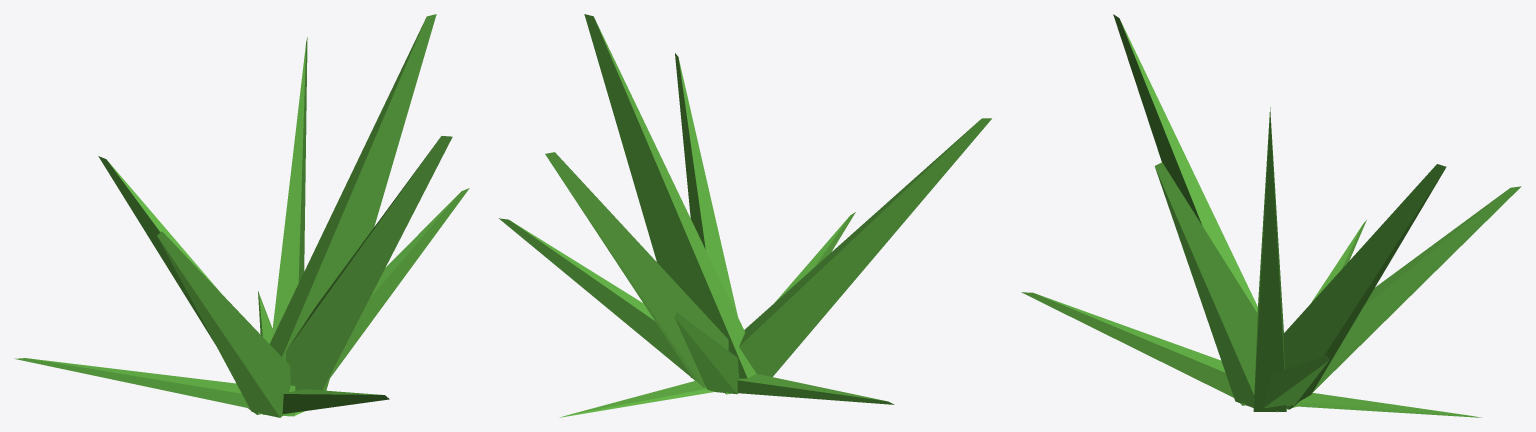
Rendered from grass_low.fbx.
3 views of the same model, side by side, from view 1: azimuth 30°, elevation 25°; view 2: azimuth 150°, elevation 25°; view 3: azimuth 270°, elevation 25° (orthographic). The views are drawn at different scales.
Parts seen in each view (by area): view 1: GrassLow; view 2: GrassLow; view 3: GrassLow.
Boxes of the visible parts, <box> form: GrassLow: <box>14,14,469,417</box>; GrassLow: <box>499,14,991,417</box>; GrassLow: <box>1021,14,1521,417</box>.
Size of the model in its own units: 0.4404 by 0.336 by 0.4222.
